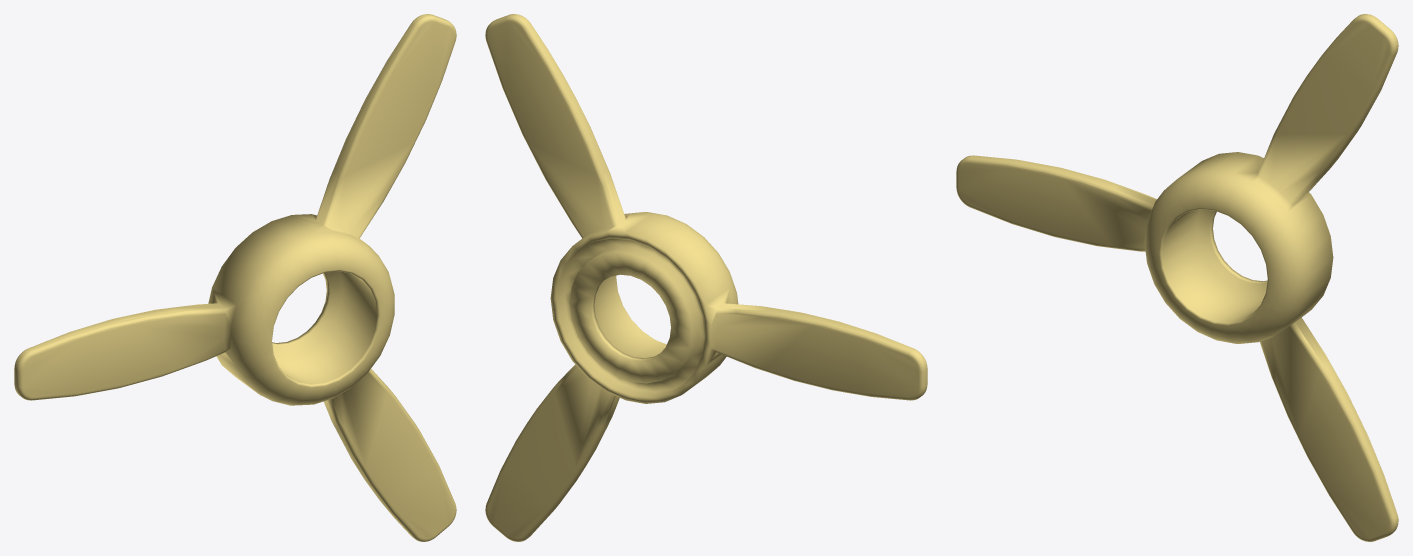
File: Propeller.obj
3 views of the same model, side by side, from view 1: azimuth 30°, elevation 25°; view 2: azimuth 150°, elevation 25°; view 3: azimuth 330°, elevation 25° (orthographic).
Parts seen in each view (by area): view 1: Propeller; view 2: Propeller; view 3: Propeller.
Boxes of the visible parts, x1,y1,x2,y2 form: Propeller: (14, 14, 456, 541); Propeller: (485, 14, 927, 541); Propeller: (956, 14, 1398, 541).
Bounding box in the file's own units: 0.1039 × 0.1188 × 0.016.
1 material, 1 textured.
